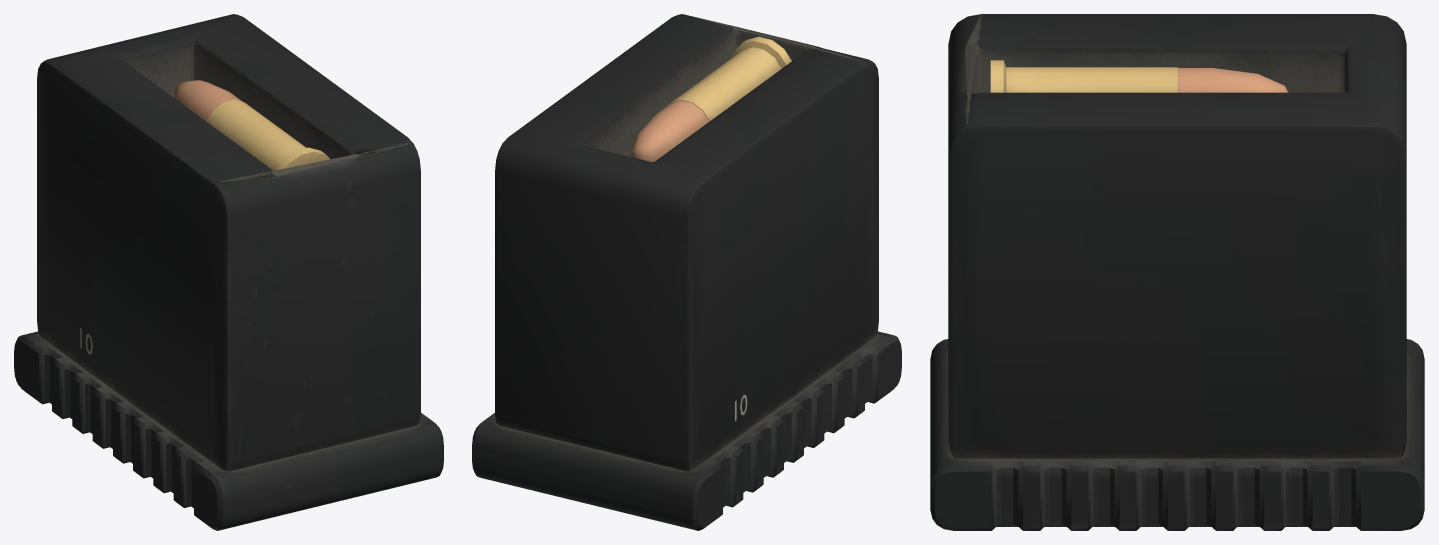
The model's file is carregador_22_10.glb.
3 renders of one model, left to right at view 1: azimuth 30°, elevation 25°; view 2: azimuth 150°, elevation 25°; view 3: azimuth 270°, elevation 25°, orthographic. The views are drawn at different scales.
Visible parts, largest first — view 1: carregador_22_10_carregador; view 2: carregador_22_10_carregador; view 3: carregador_22_10_carregador.
Boxes of the visible parts, x1,y1,x2,y2 form: carregador_22_10_carregador: [14, 14, 443, 530]; carregador_22_10_carregador: [472, 14, 901, 530]; carregador_22_10_carregador: [930, 14, 1424, 530].
Size of the model in its own units: 0.0258 by 0.039 by 0.041.
Materials: 1 (1 with a texture image).
